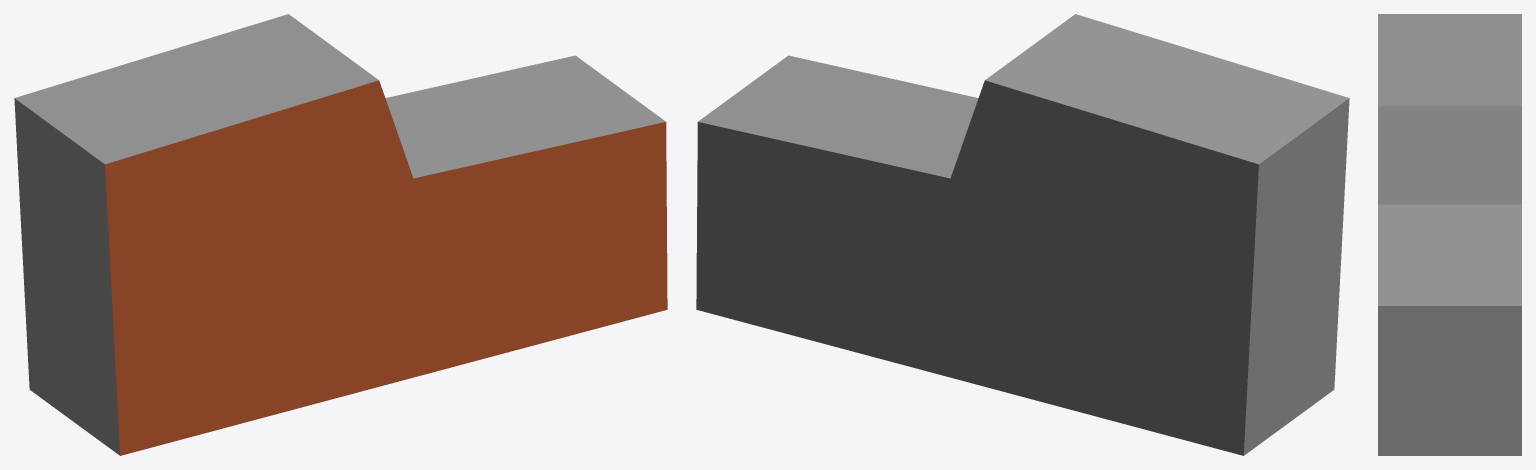
The model's file is construction_5126_assumed_A_Casa_h6m.obj.
3 views of the same model, side by side, from view 1: azimuth 30°, elevation 25°; view 2: azimuth 150°, elevation 25°; view 3: azimuth 270°, elevation 25° (orthographic). The views are drawn at different scales.
Visible parts, largest first — view 1: construction_5126_assumed_A_Casa; view 2: construction_5126_assumed_A_Casa; view 3: construction_5126_assumed_A_Casa.
Boxes of the visible parts, left/top/right/bottom form: construction_5126_assumed_A_Casa: left=14, top=14, right=667, bottom=455; construction_5126_assumed_A_Casa: left=696, top=14, right=1349, bottom=455; construction_5126_assumed_A_Casa: left=1378, top=14, right=1521, bottom=455.
Size of the model in its own units: 21.5 by 11.41 by 6.
